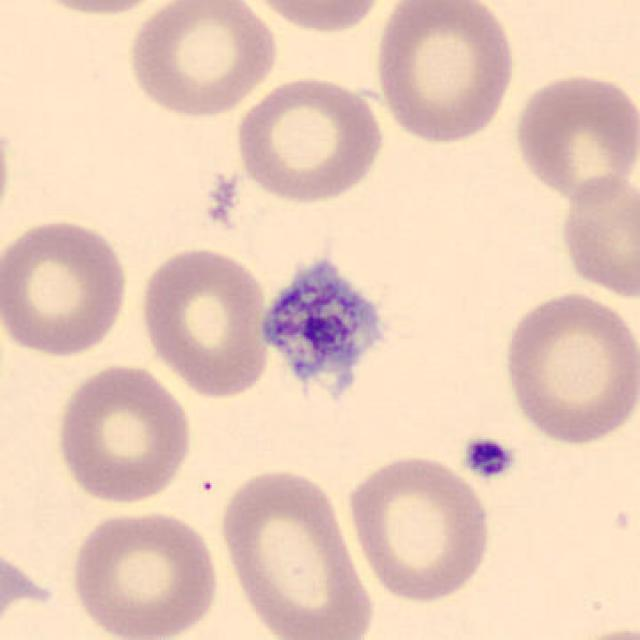Platelets: (251, 247, 398, 418), (459, 436, 517, 482)
RBC: (215, 464, 377, 638), (343, 451, 496, 605), (498, 287, 638, 448), (135, 242, 274, 400), (369, 0, 519, 146), (51, 360, 196, 508), (66, 506, 224, 640), (231, 72, 388, 204), (0, 213, 133, 359), (123, 0, 281, 120), (508, 69, 638, 206), (554, 167, 640, 303), (238, 0, 392, 35), (16, 0, 180, 18), (0, 104, 16, 242), (554, 620, 638, 640)
